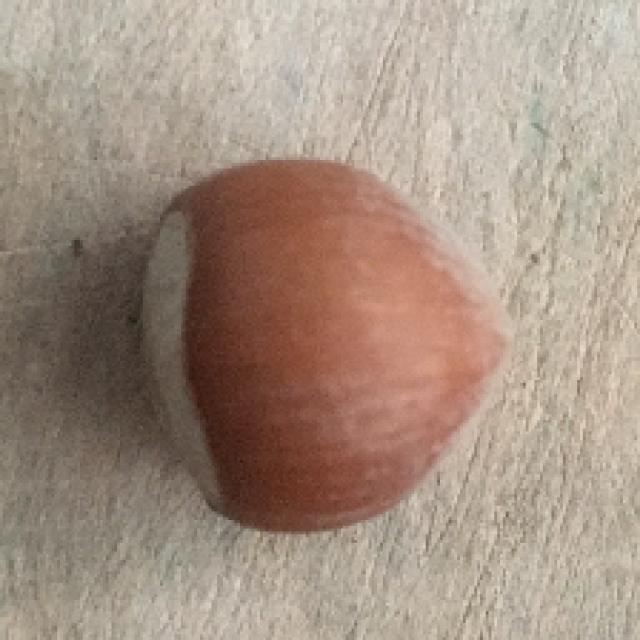qualityHazelnut: (119, 158, 512, 532)
